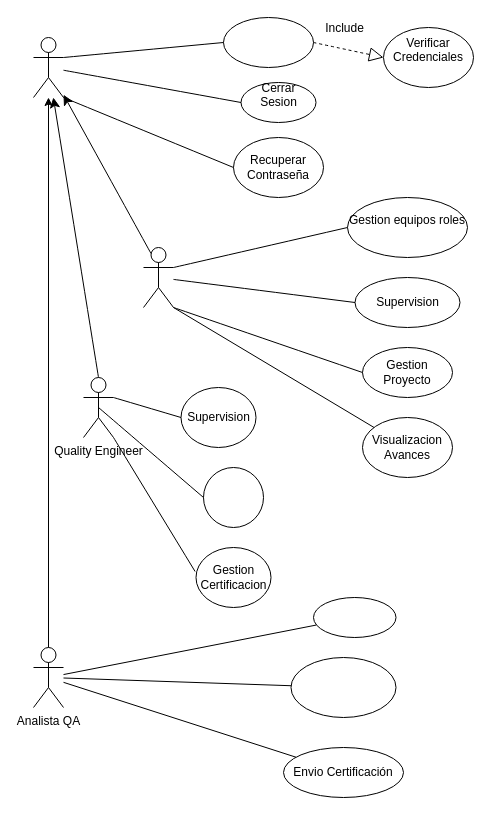
The diagram is 491 pixels wide and 815 high, and some of its shapes have lost their labels. Here are the shapes that lost their labels. From the top down, the box of each, then its label:
(222, 16, 314, 68): Iniciar Sesion
(32, 36, 64, 98): Usuario
(142, 246, 174, 308): Lider QA
(202, 466, 264, 528): Gestion Analistas
(312, 596, 396, 638): Certificación HU
(290, 656, 396, 718): Ejecución Casos Prueba
